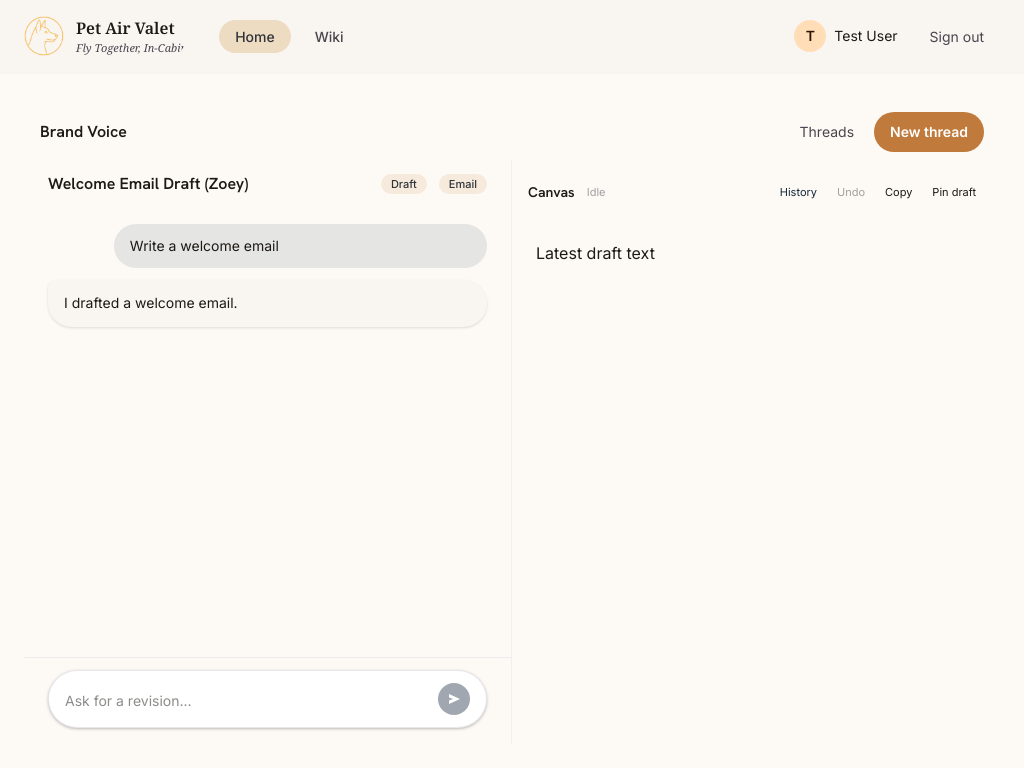
Scenario: BrandVoicePage › supports undo for canvas edits
Replace the text in the text box named "Canvas draft" with "Draft version 2" at (756, 484), box [512, 224, 1000, 744]
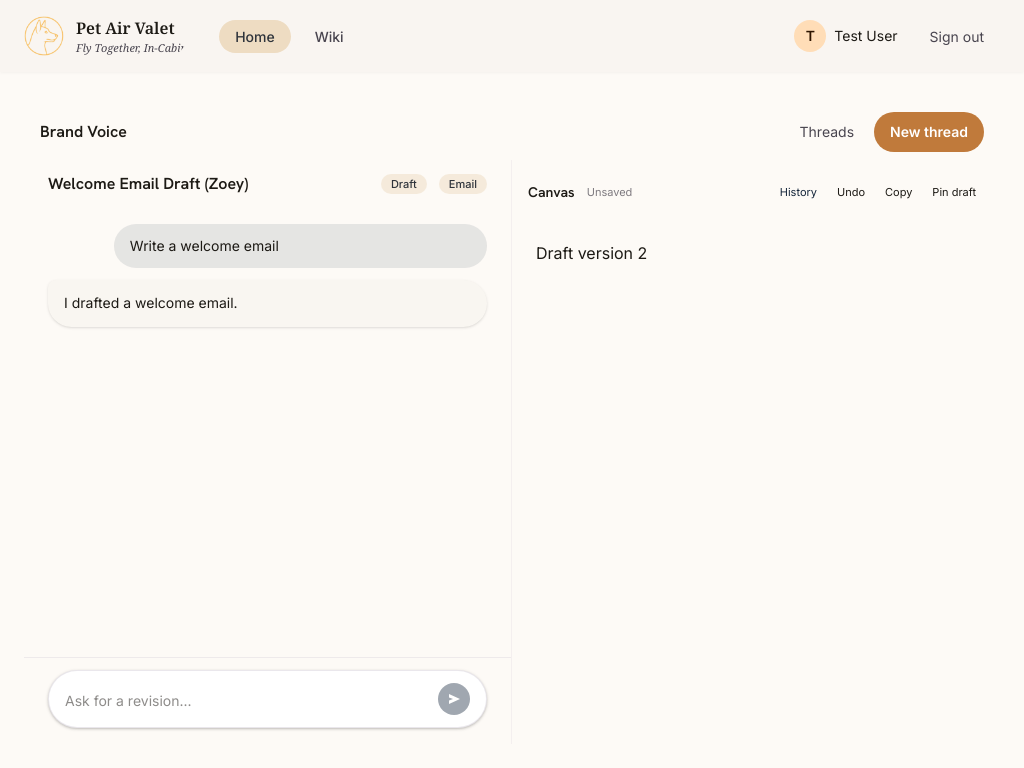
Click the button "Undo" at (851, 192), box [829, 172, 873, 212]
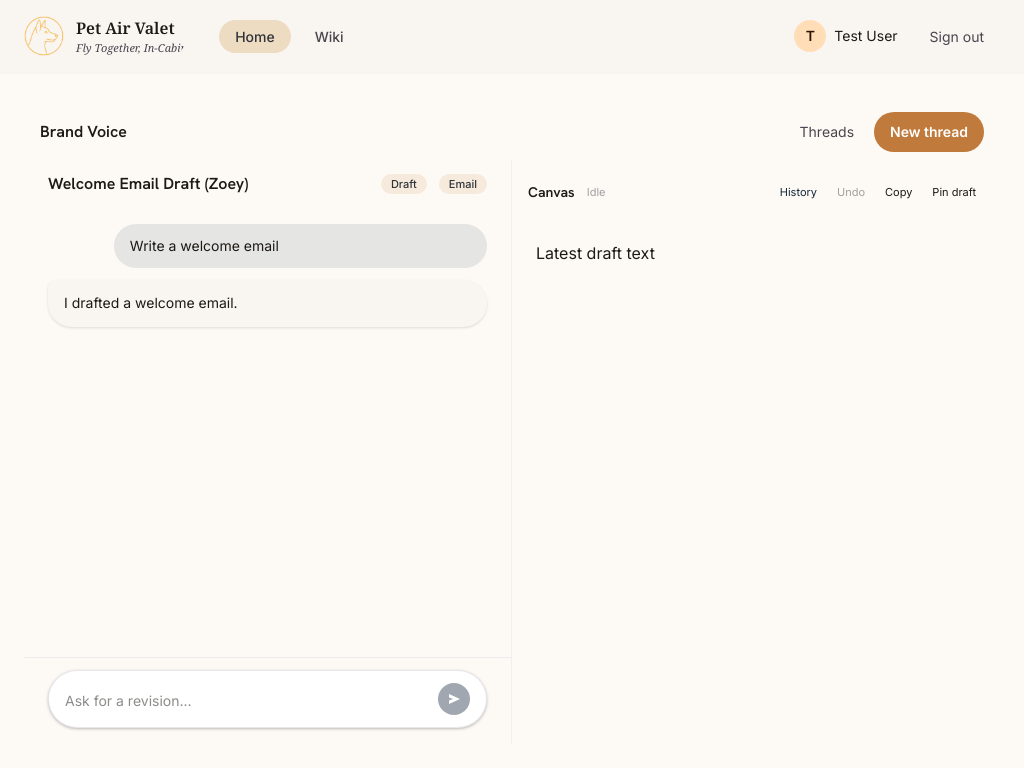
Expected: the text box named "Canvas draft" holds "Latest draft text", [512, 224, 1000, 744]
